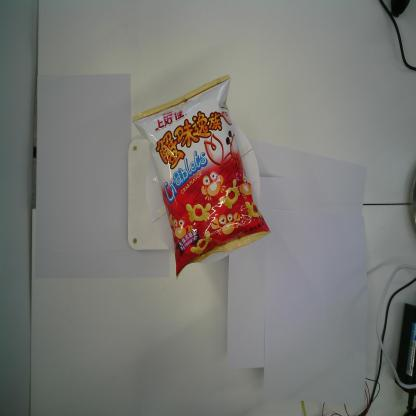Puffed Food: (130, 74, 272, 282)
